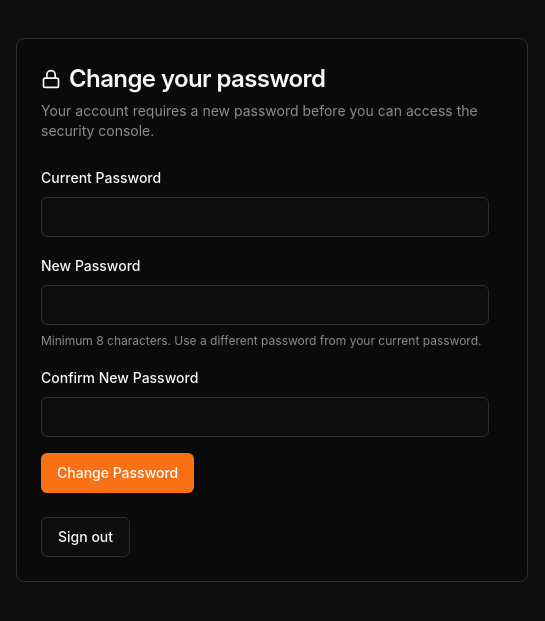
Scenario: authoritative account routing › blocks required password submission during logout and preserves its result (success=false)
Type "current-password" into the password field labelled "Current Password" at x=265, y=217, box [41, 197, 489, 237]
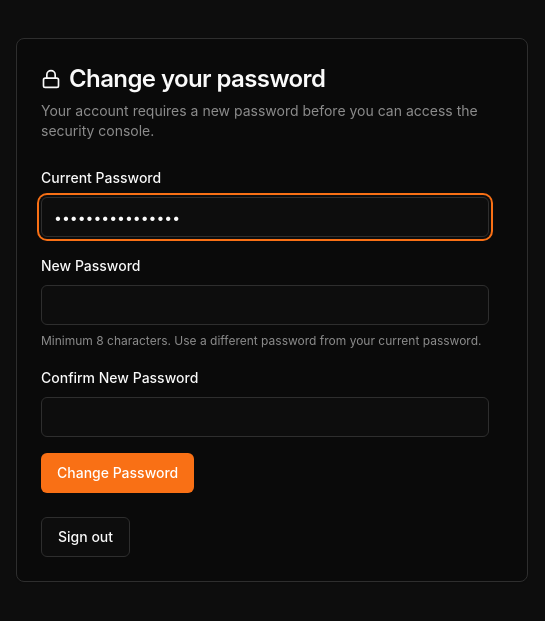
Type "replacement-password" into the password field labelled "New Password" at x=265, y=305, box [41, 285, 489, 325]
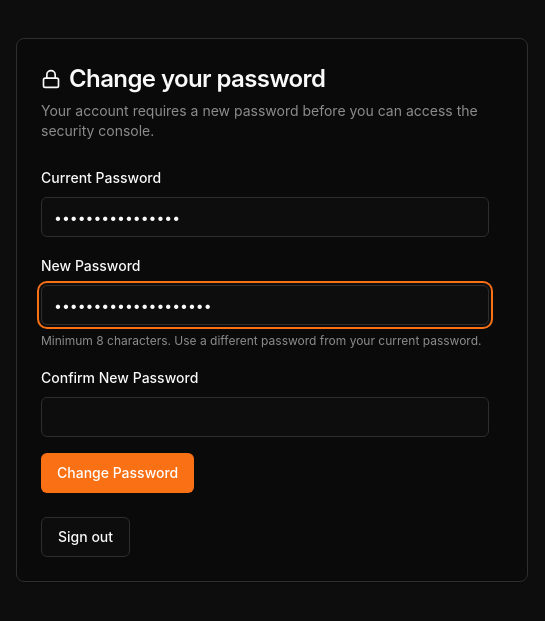
Type "replacement-password" into the password field labelled "Confirm New Password" at x=265, y=417, box [41, 397, 489, 437]
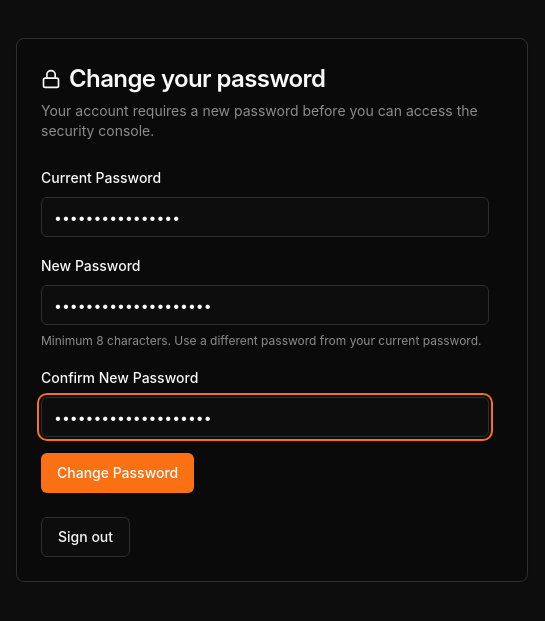
Click the button "Sign out" at x=86, y=537, box [41, 517, 130, 557]
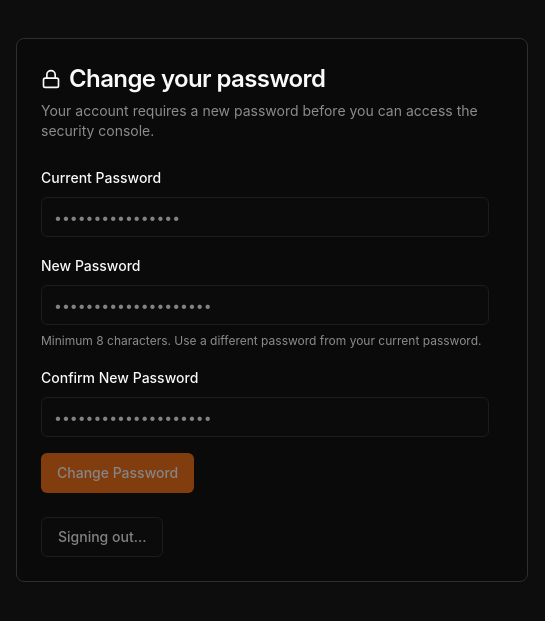
Result: the button "Change Password" is disabled at [41, 453, 194, 493]
Result: the password field labelled "Current Password" is disabled at [41, 197, 489, 237]
Submit the form named "Change Password", box [41, 165, 489, 493]
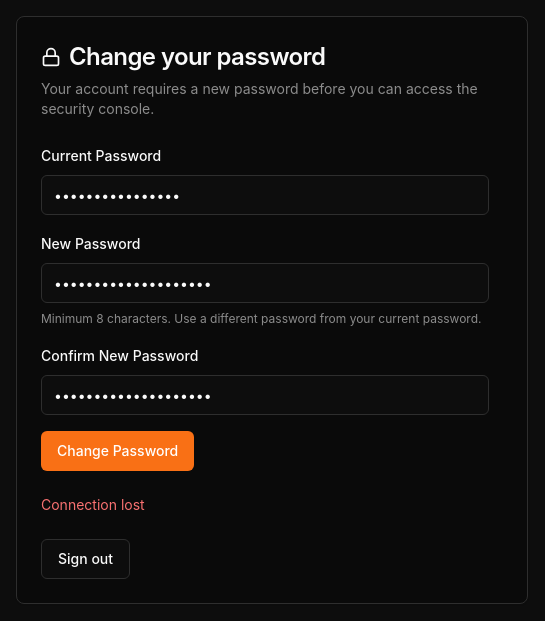
Result: the button "Change Password" is enabled at [41, 431, 194, 471]
Result: the message reads "Connection lost" at [41, 496, 145, 513]
